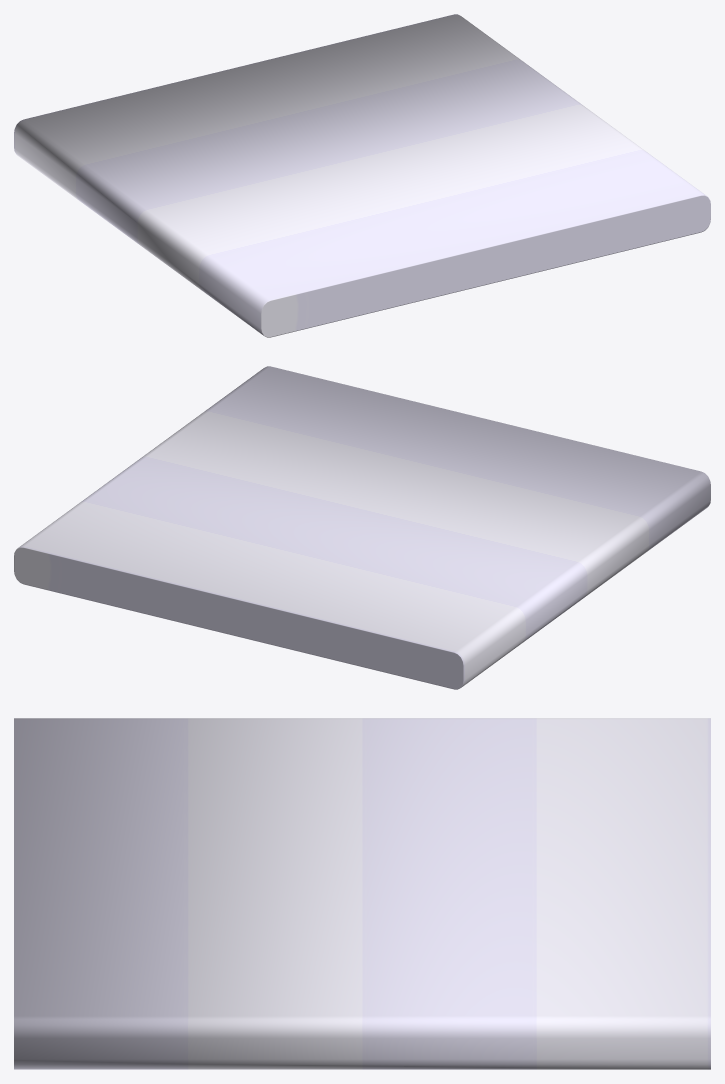
Rendered from Floor (4).fbx.
3 views of the same model, one above another, from view 1: azimuth 30°, elevation 25°; view 2: azimuth 150°, elevation 25°; view 3: azimuth 270°, elevation 25° (orthographic). The views are drawn at different scales.
Parts seen in each view (by area): view 1: Roundcube.002; view 2: Roundcube.002; view 3: Roundcube.002.
Part boxes in pixels (x1,y1,x2,y2): Roundcube.002: [14, 14, 710, 337]; Roundcube.002: [14, 366, 710, 689]; Roundcube.002: [14, 718, 710, 1069].
Size of the model in its own units: 1081 by 85.45 by 1028.
1 material, 1 textured.
